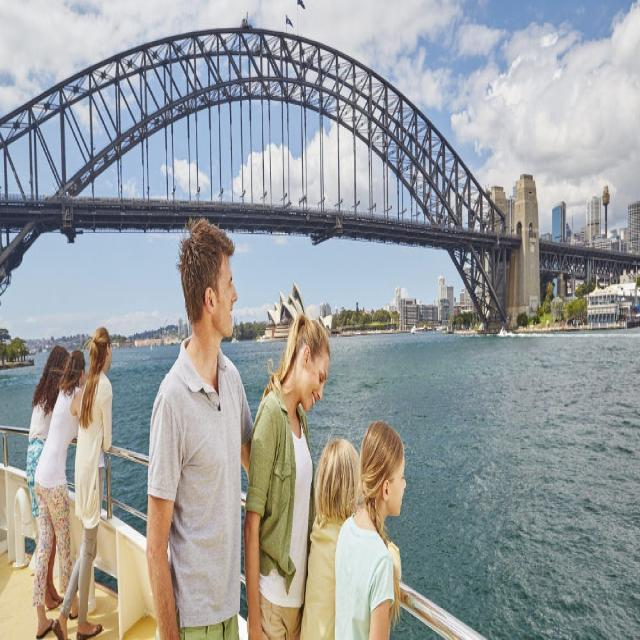body: (144, 214, 255, 640), (244, 311, 336, 639), (50, 322, 114, 638), (29, 347, 87, 640), (332, 417, 408, 640), (298, 434, 361, 639), (26, 343, 70, 611), (450, 312, 588, 334)
